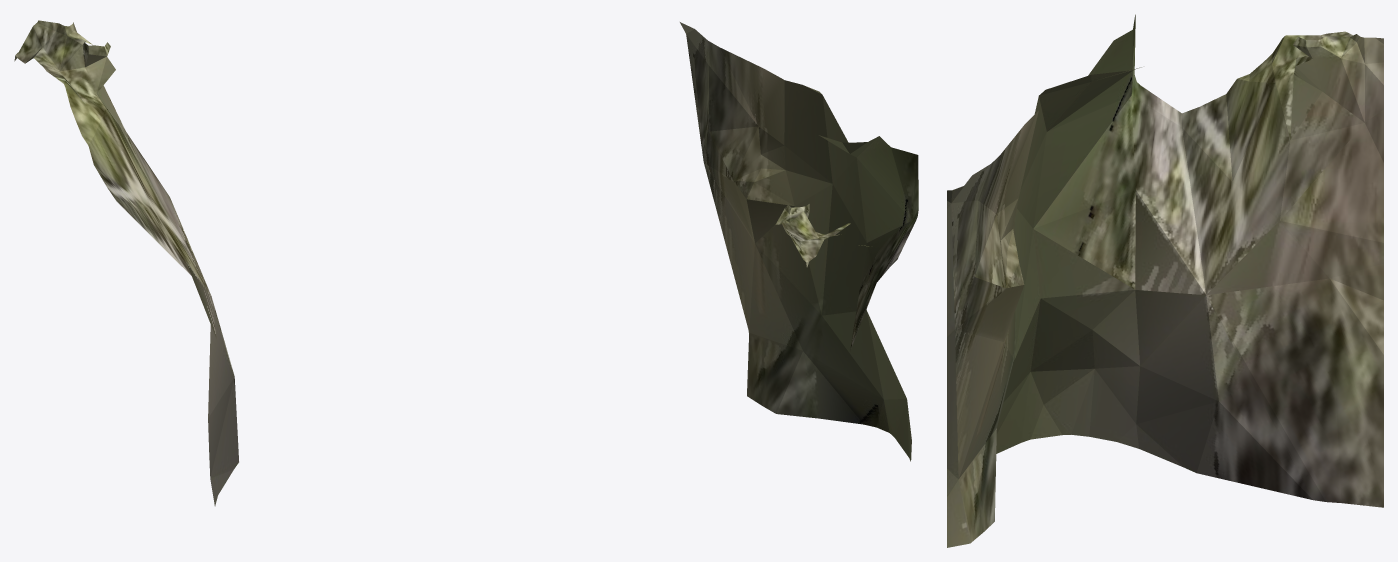
The picture shows the model from 3 angles, left to right: view 1: azimuth 30°, elevation 25°; view 2: azimuth 150°, elevation 25°; view 3: azimuth 270°, elevation 25°; orthographic projection. The views are drawn at different scales.
Bounding box in the file's own units: 2.82 × 2.95 × 2.95.
4 materials, 4 textured.
